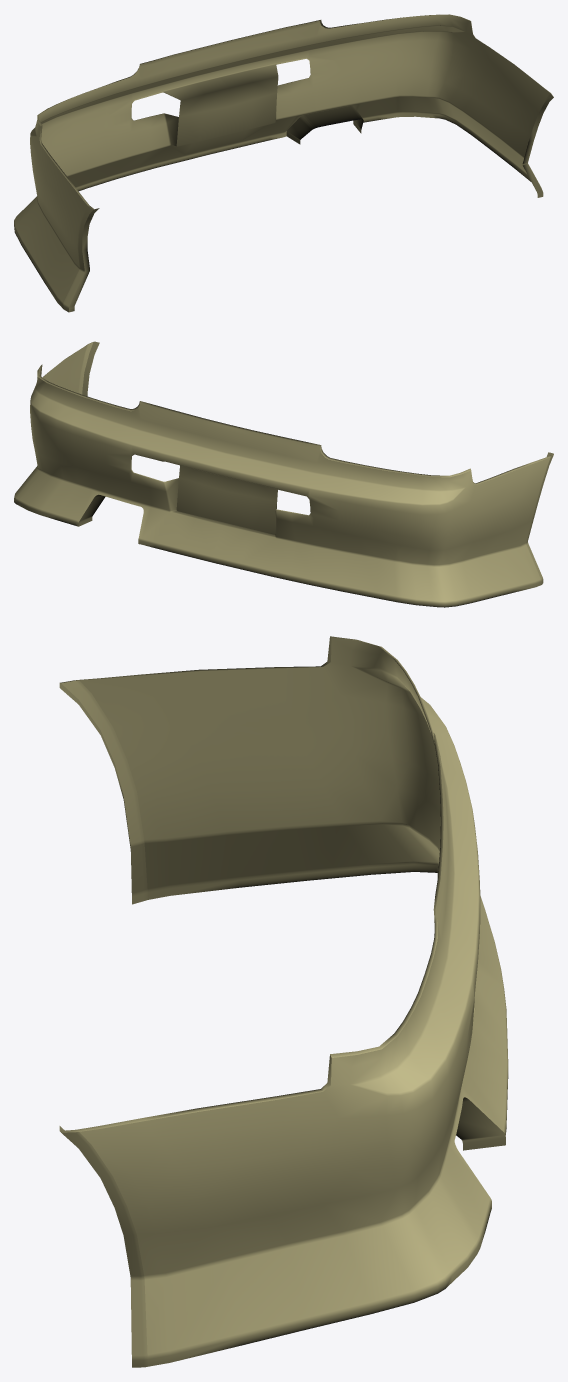
File: R34_BB03_Duco.fbx
The picture shows the model from 3 angles, top to bottom: view 1: azimuth 30°, elevation 25°; view 2: azimuth 150°, elevation 25°; view 3: azimuth 270°, elevation 25°; orthographic projection. The views are drawn at different scales.
Parts seen in each view (by area): view 1: R34_BB03_Duco; view 2: R34_BB03_Duco; view 3: R34_BB03_Duco.
Boxes of the visible parts, x1=… form: R34_BB03_Duco: x1=14, y1=14, x2=553, y2=312; R34_BB03_Duco: x1=14, y1=341, x2=553, y2=607; R34_BB03_Duco: x1=59, y1=636, x2=508, y2=1367.
Size of the model in its own units: 184 by 57.92 by 74.72.
